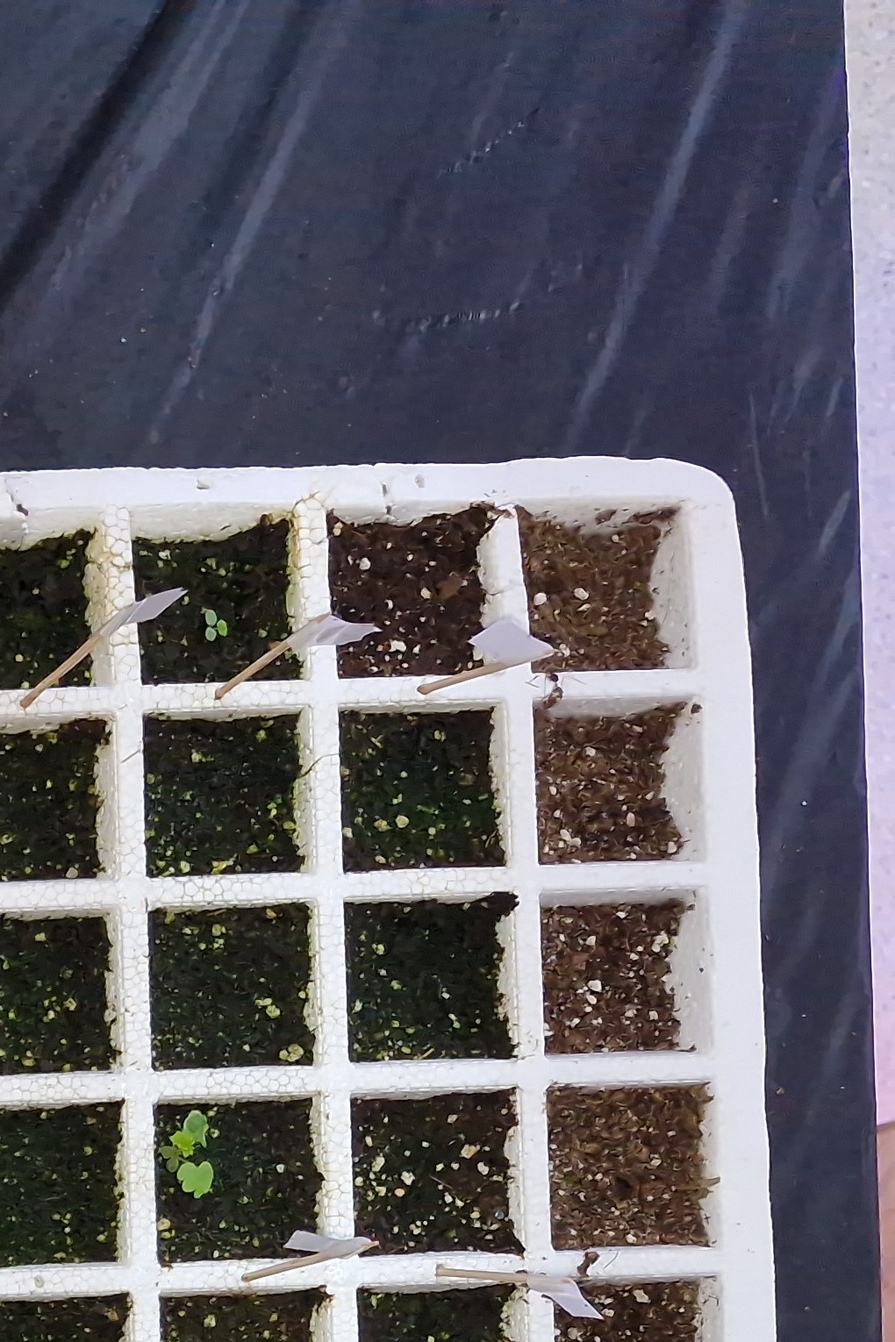Folha: (177, 1162, 212, 1198), (184, 1110, 208, 1146), (169, 1130, 196, 1158), (161, 1147, 181, 1171), (217, 620, 227, 636), (206, 610, 216, 626), (206, 627, 216, 641)
Germinacao: (161, 1110, 213, 1198), (206, 609, 227, 641)
